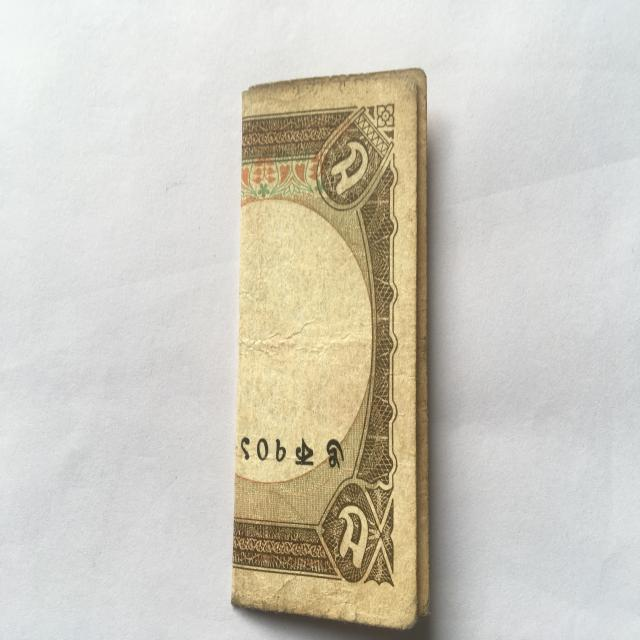Taka: (235, 60, 441, 635)
